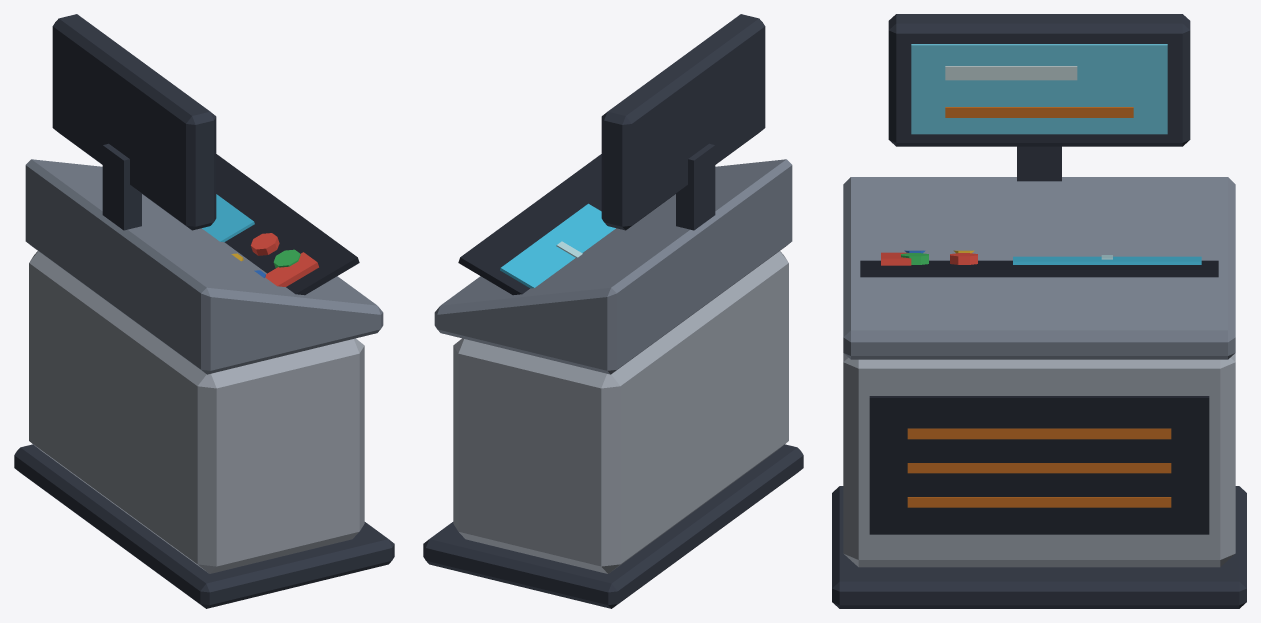
Rendered from space-prop1.glb.
3 renders of one model, left to right at view 1: azimuth 30°, elevation 25°; view 2: azimuth 150°, elevation 25°; view 3: azimuth 270°, elevation 25°, orthographic. The views are drawn at different scales.
Parts seen in each view (by area): view 1: space-prop1; view 2: space-prop1; view 3: space-prop1.
Part boxes in pixels (x1,y1,x2,y2): space-prop1: (14, 14, 394, 608); space-prop1: (423, 14, 803, 608); space-prop1: (832, 14, 1246, 608).
Size of the model in its own units: 0.64 by 1.48 by 1.1.
